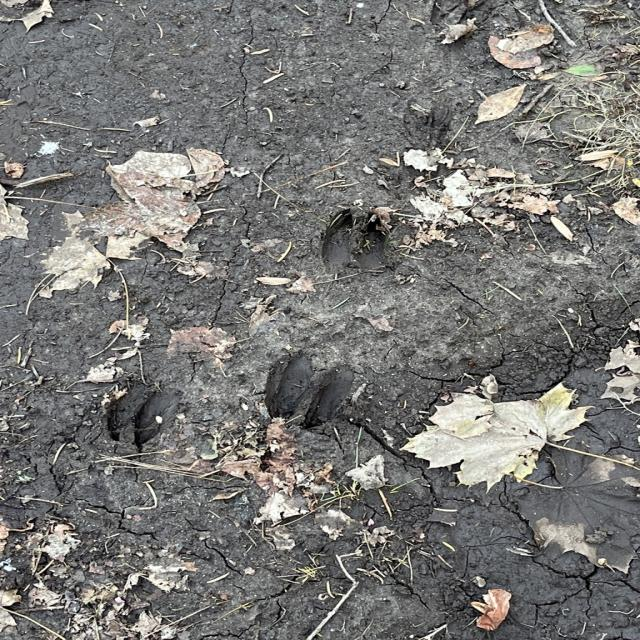deer: (268, 352, 352, 418), (327, 208, 398, 276), (108, 381, 178, 440)
